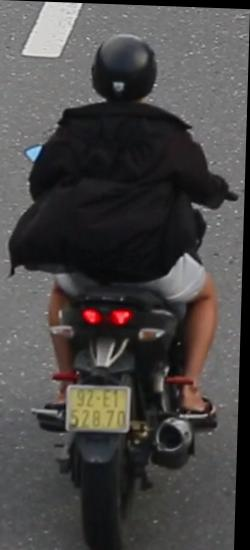LP: (66, 380, 137, 436)
helmet: (89, 28, 159, 110)
